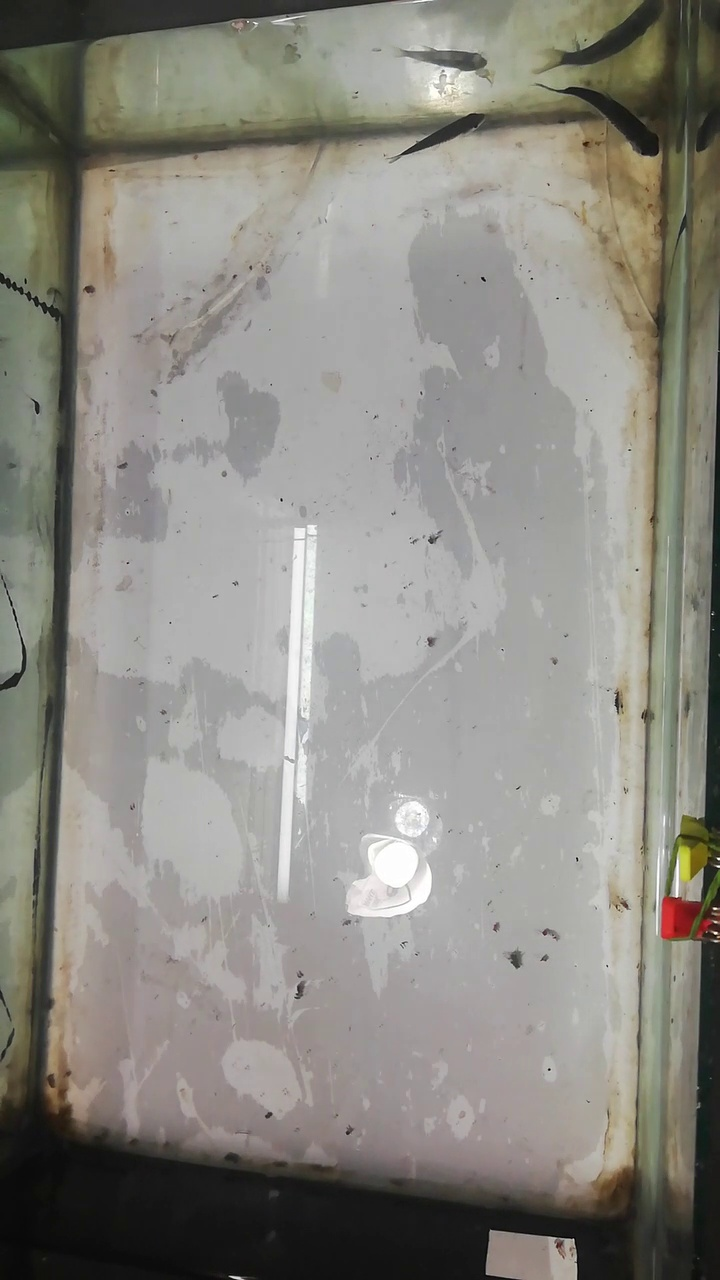fish1: (542, 81, 664, 155)
fish2: (389, 111, 486, 162)
